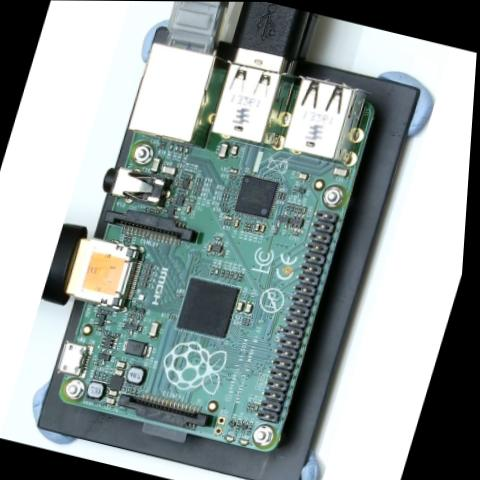Raspberry-Pi-1-Model-B-: (38, 32, 397, 469)
